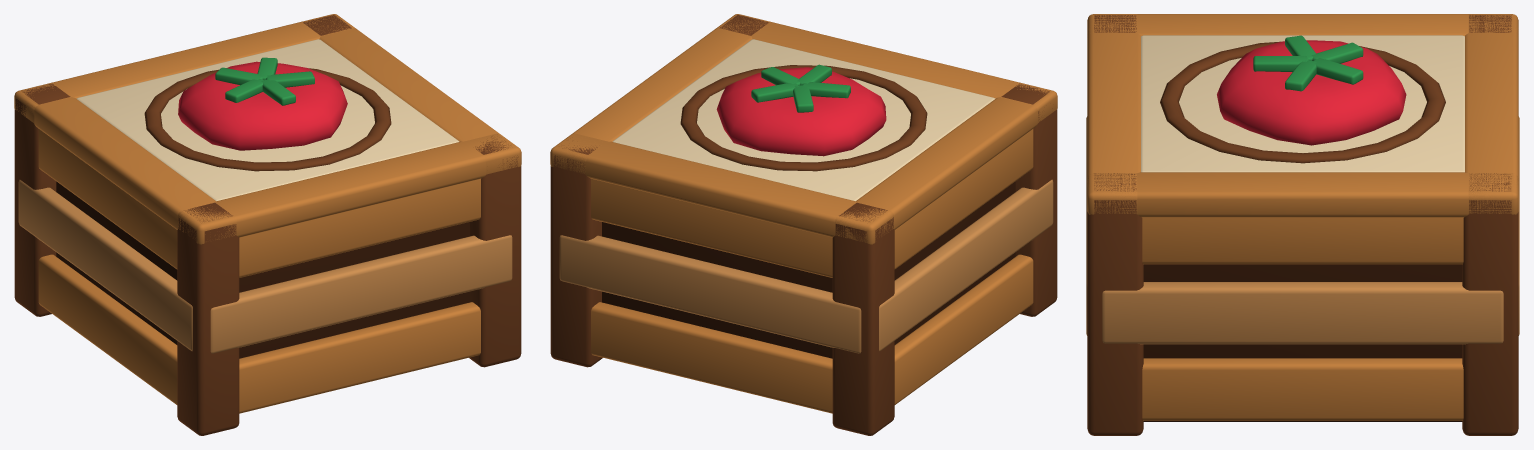
The model's file is crate_tomatoes.gltf.
The picture shows the model from 3 angles, left to right: view 1: azimuth 30°, elevation 25°; view 2: azimuth 150°, elevation 25°; view 3: azimuth 270°, elevation 25°; orthographic projection. The views are drawn at different scales.
Parts seen in each view (by area): view 1: CrateShadowCore; view 2: CrateShadowCore; view 3: CrateShadowCore.
Part boxes in pixels (x1,y1,x2,y2): CrateShadowCore: (14, 14, 521, 435); CrateShadowCore: (550, 14, 1057, 435); CrateShadowCore: (1086, 14, 1519, 435).
Bounding box in the file's own units: 1.01 × 0.7375 × 1.01.
